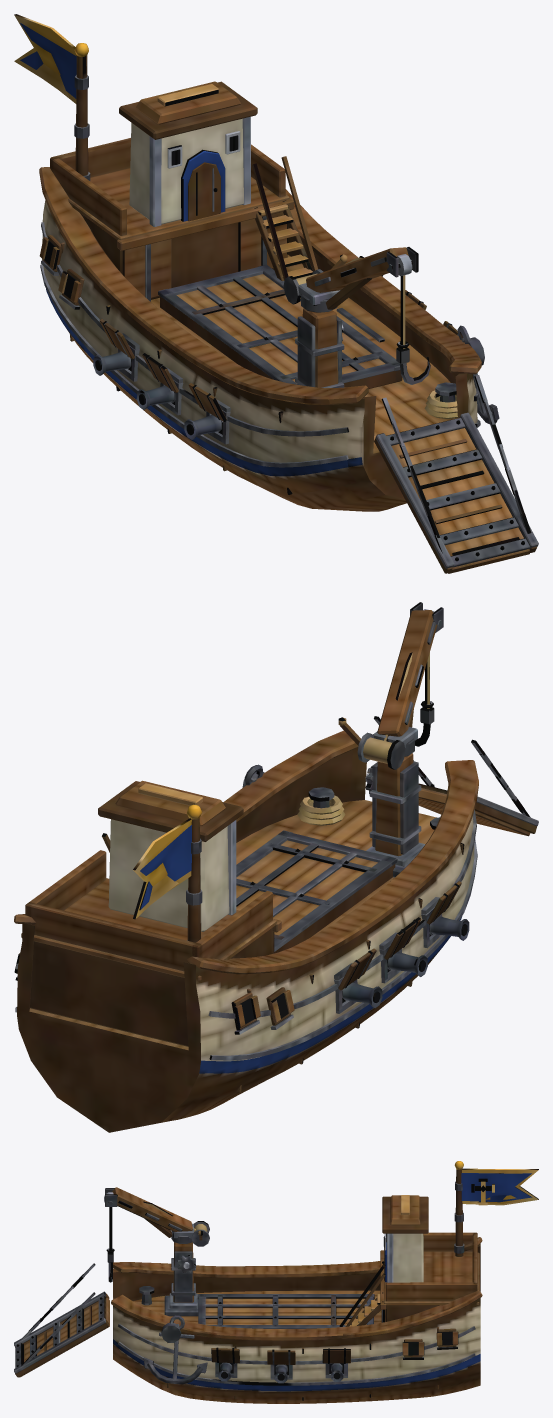
The model's file is barge.glb.
3 views of the same model, one above another, from view 1: azimuth 30°, elevation 25°; view 2: azimuth 150°, elevation 25°; view 3: azimuth 270°, elevation 25° (orthographic). The views are drawn at different scales.
Parts seen in each view (by area): view 1: Hull, Ramp, Crane, Flag, Hook; view 2: Hull, Crane, Flag, Ramp, Hook; view 3: Hull, Ramp, Flag, Crane, Hook.
Boxes of the visible parts, x1,y1,x2,y2 form: Hull: (39,43,499,511); Ramp: (374,375,538,573); Crane: (283,247,418,312); Flag: (14,14,76,103); Hook: (396,275,430,384); Hull: (14,730,478,1132); Crane: (338,602,443,769); Flag: (133,818,192,919); Ramp: (367,716,538,836); Hook: (415,652,434,746); Hull: (111,1161,482,1403); Ramp: (14,1263,109,1377); Flag: (461,1168,538,1205); Crane: (104,1187,209,1246); Hook: (106,1207,114,1282).
Bounding box in the file's own units: 3.48 × 3.84 × 8.57.
2 materials, 2 textured.
